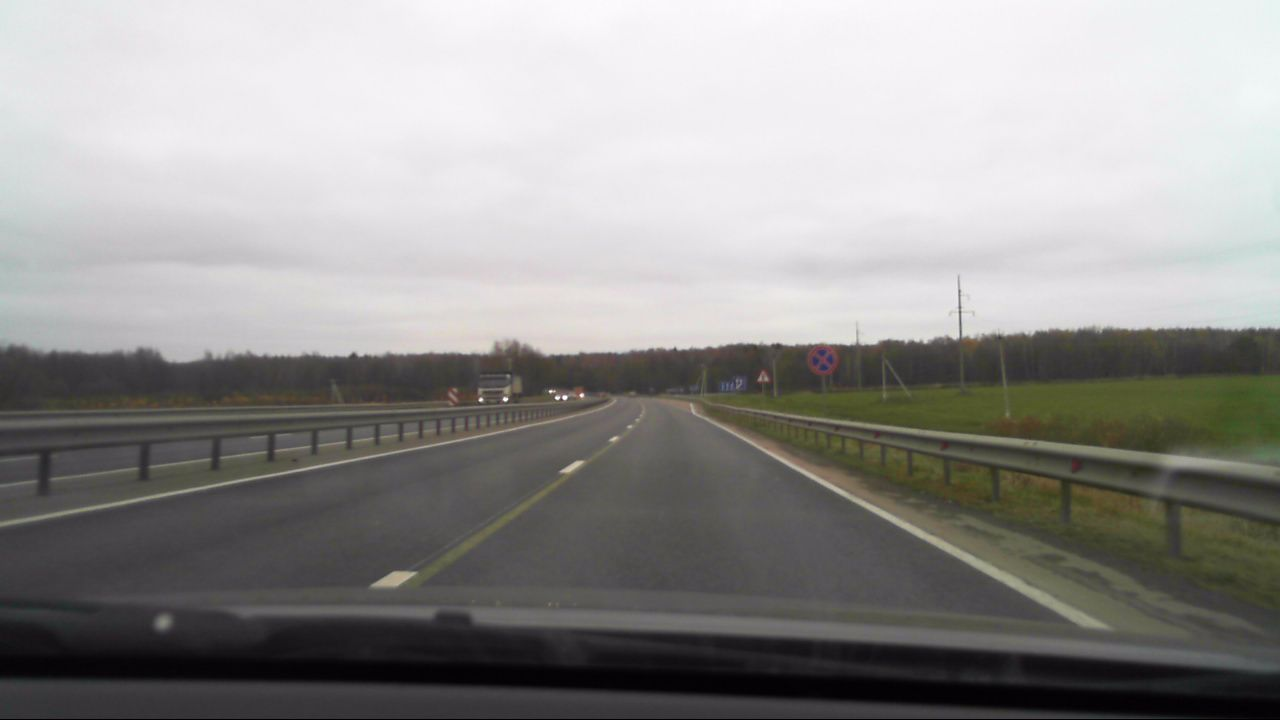No Parking: (807, 346, 838, 377)
